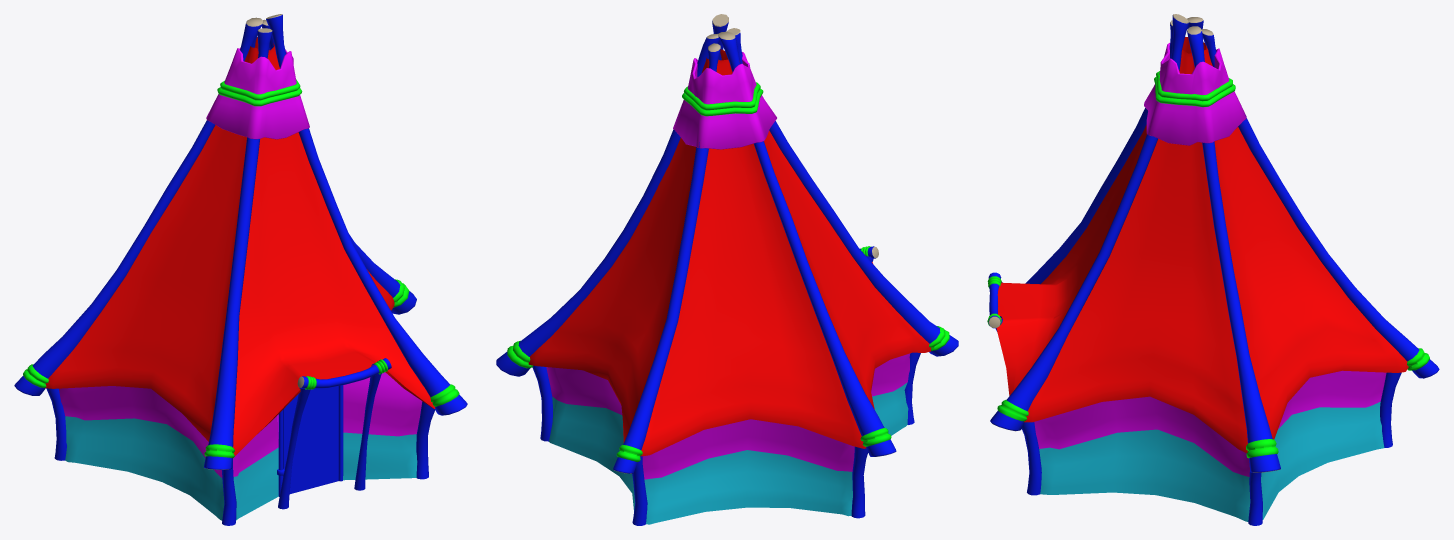
File: SM_Tipi_2016.FBX
3 views of the same model, side by side, from view 1: azimuth 30°, elevation 25°; view 2: azimuth 150°, elevation 25°; view 3: azimuth 270°, elevation 25° (orthographic). The views are drawn at different scales.
Visible parts, largest first — view 1: Shape047, SM_porte_Tipi; view 2: Shape047; view 3: Shape047.
Part boxes in pixels (left/top/right/bottom): Shape047: left=14, top=14, right=467, bottom=525; SM_porte_Tipi: left=277, top=386, right=338, bottom=493; Shape047: left=496, top=14, right=958, bottom=525; Shape047: left=987, top=14, right=1439, bottom=525.
Bounding box in the file's own units: 1034 × 1066 × 994.
